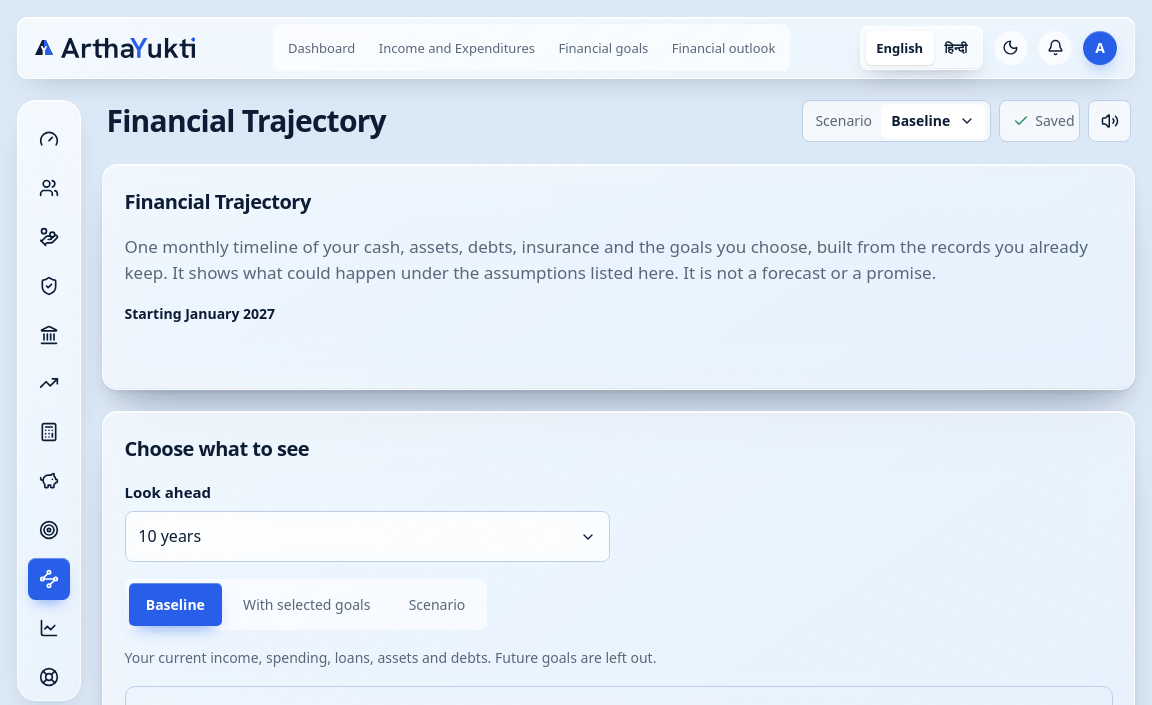
the Financial Trajectory tab › does not ask until an age is a valid age
Click the dropdown named "Look ahead" at (170, 536), box [124,511,610,562]
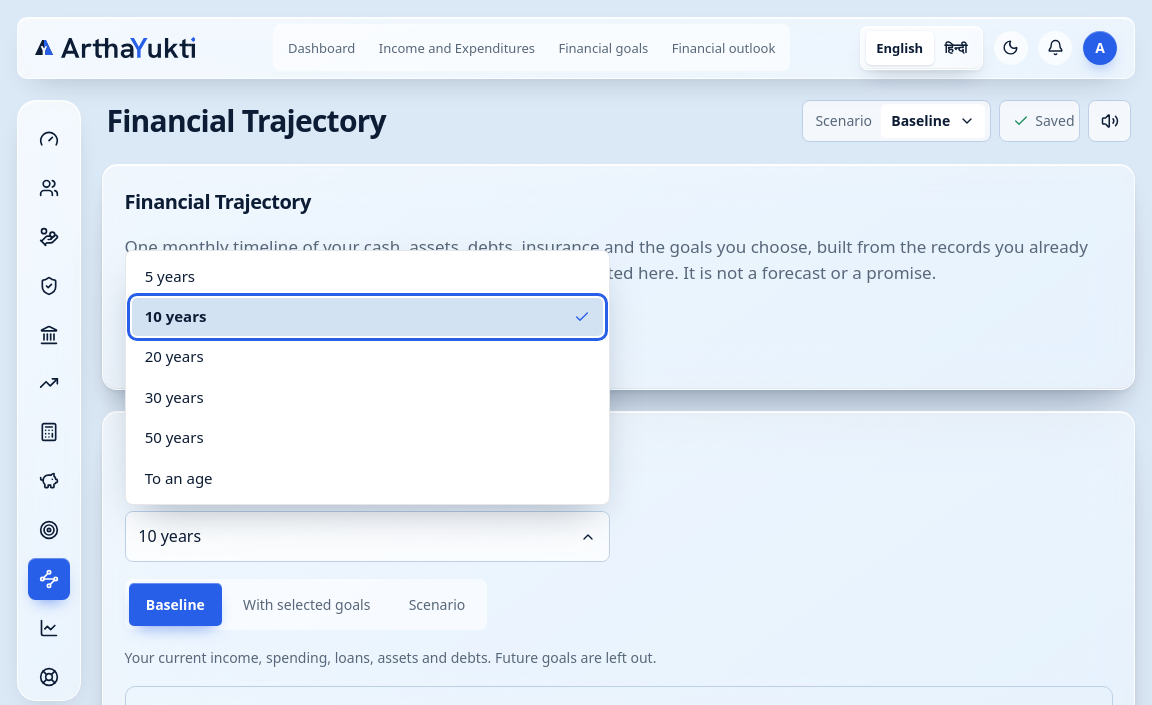
Click the option "To an age" at (179, 478), box [132,459,603,497]
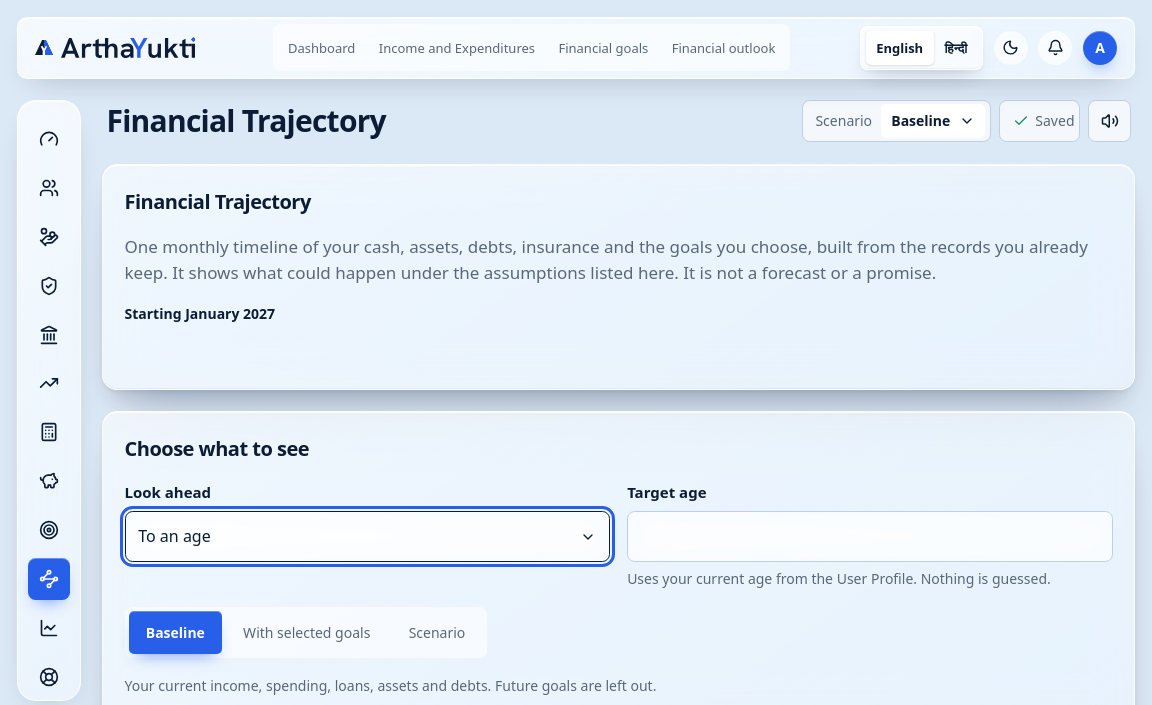
Type "999" into the field labelled "Target age" at (870, 536), box [627,511,1113,562]
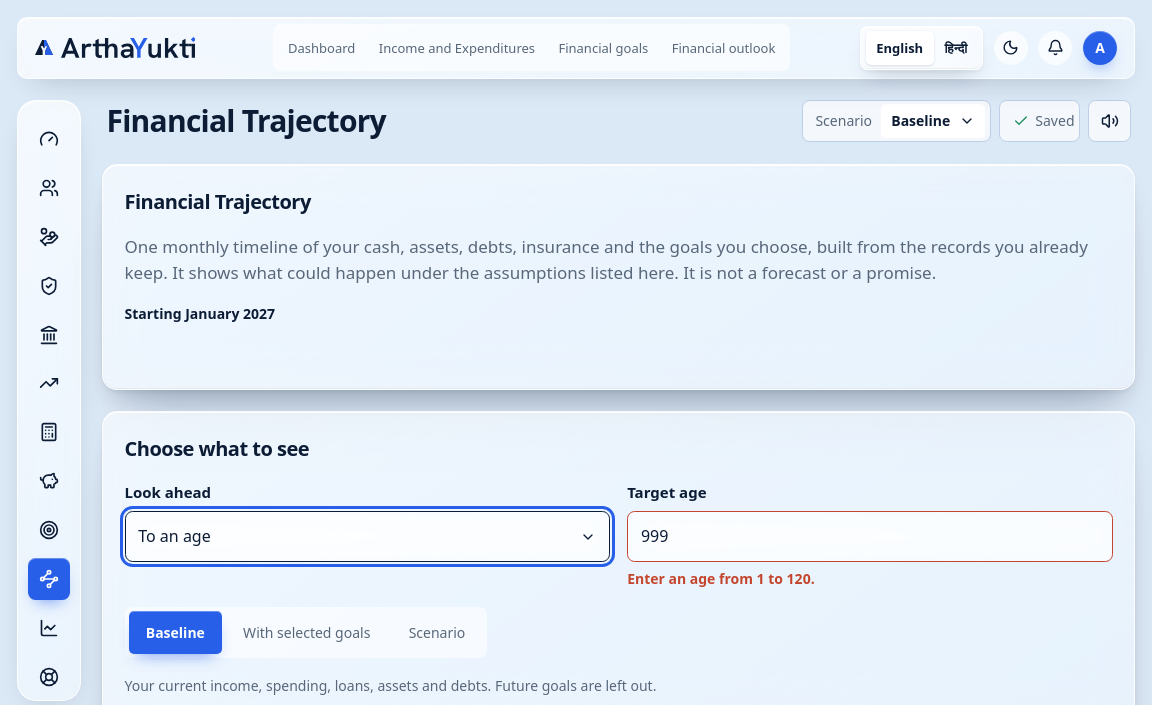
Expected: the text "Enter an age from 1 to 120." is shown, [627,569,815,588]
